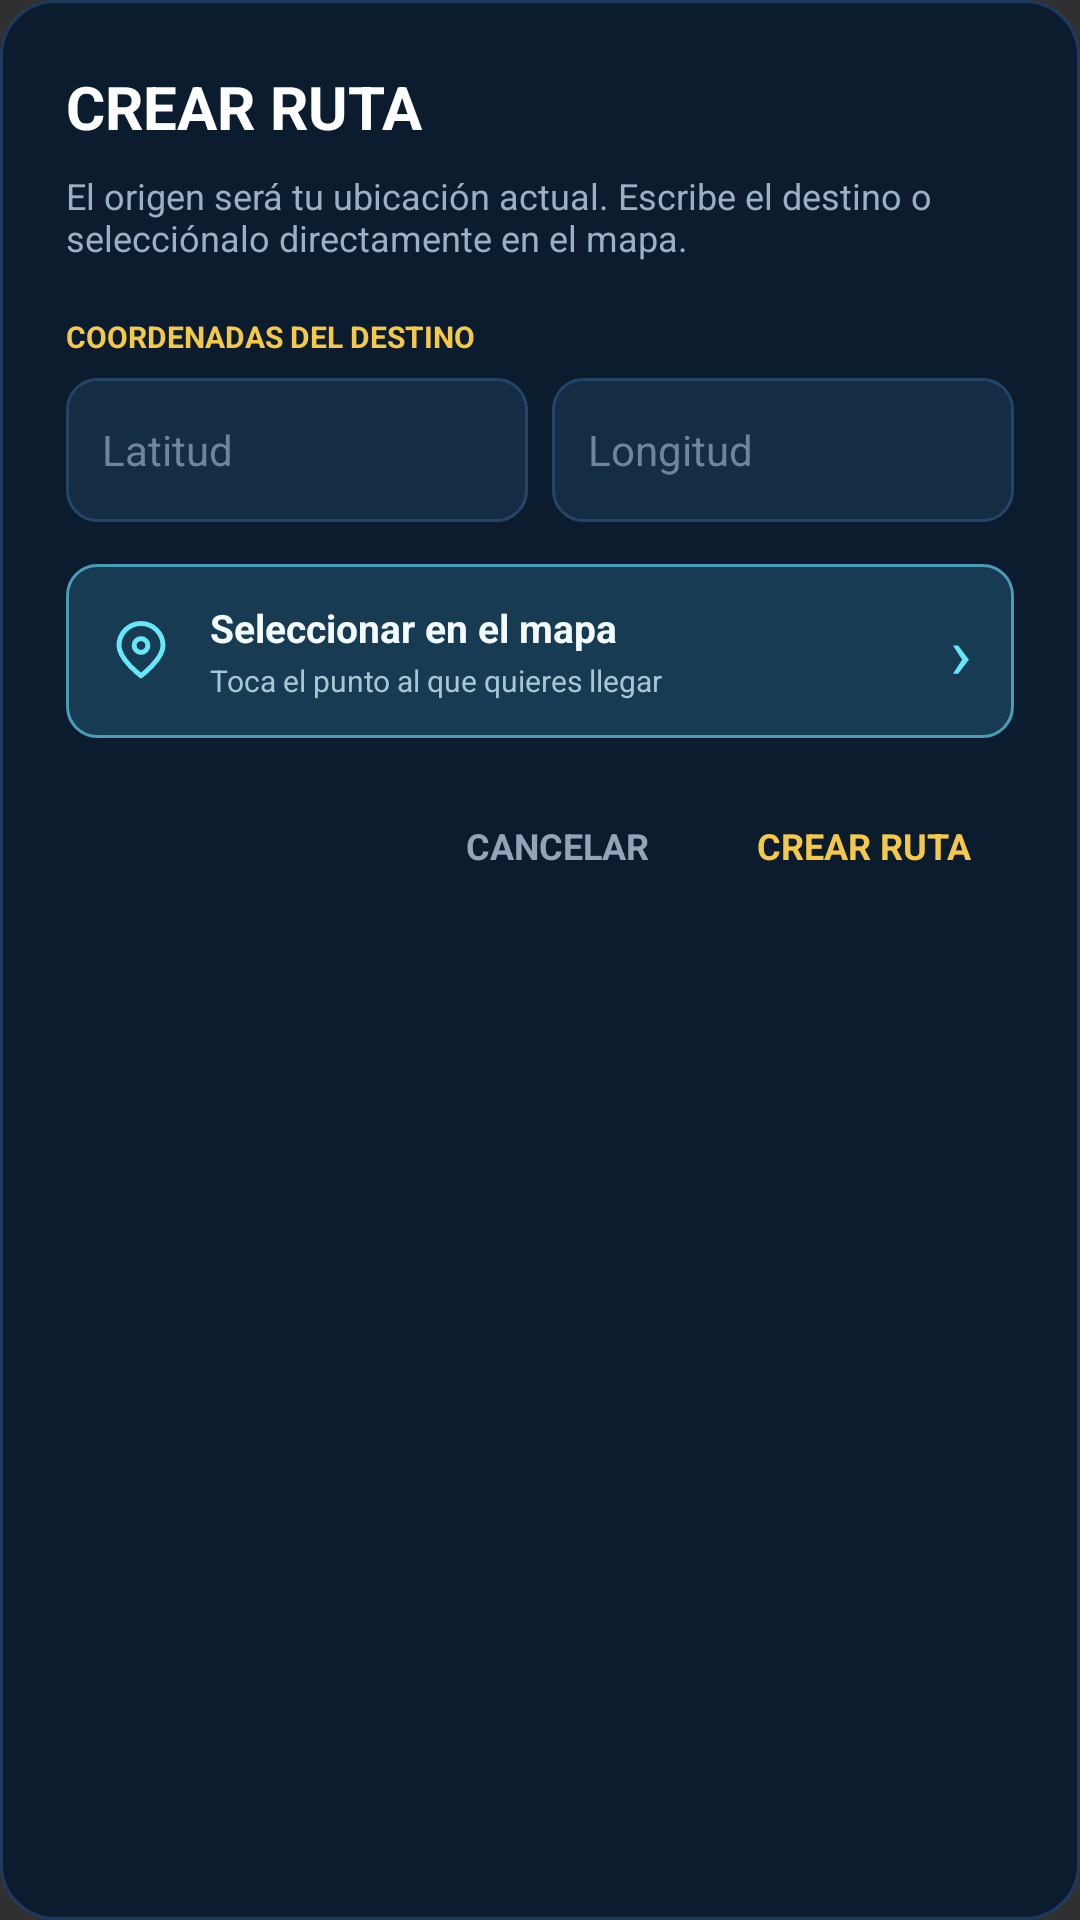

Icons on this 1080x1920 Android screen, each with the point to tap as [x,y]:
tool poi: [141,650]
